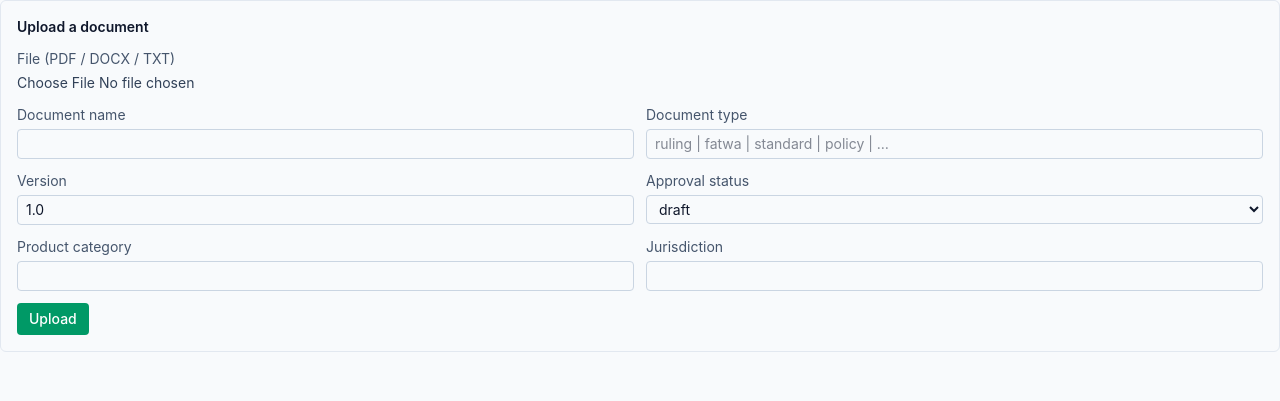
Test case: UploadDocumentForm › blocks submission and shows an error when no file is chosen
Type "Ta’widh Policy" into the field labelled "Document name" at (326, 144), box [17,129,634,159]
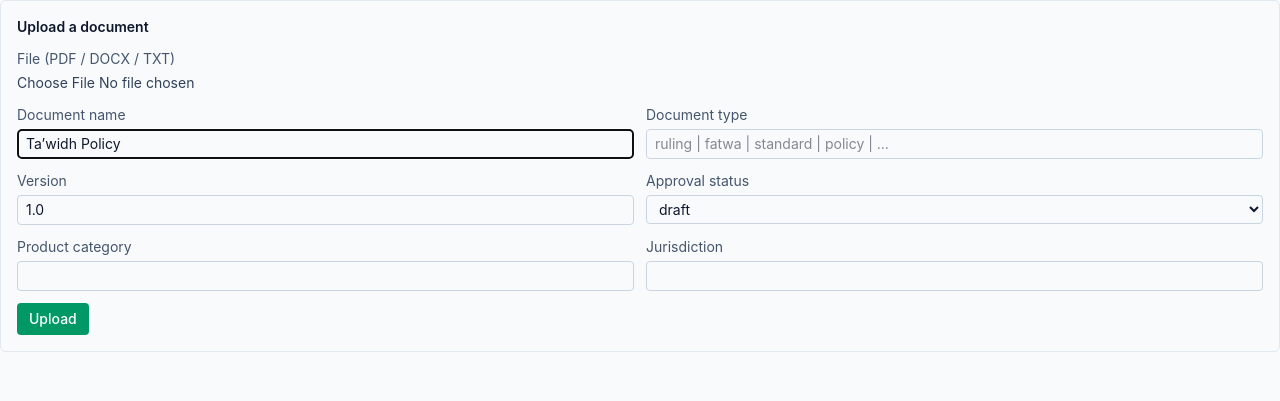
Type "policy" into the field labelled "Document type" at (954, 144), box [646,129,1263,159]
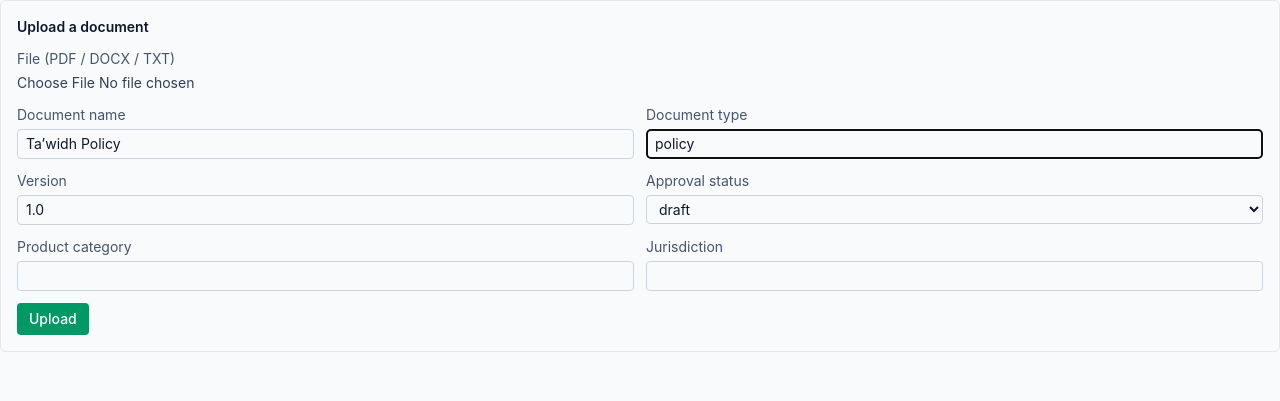
Click the button "Upload" at (53, 319), box [17,303,89,335]
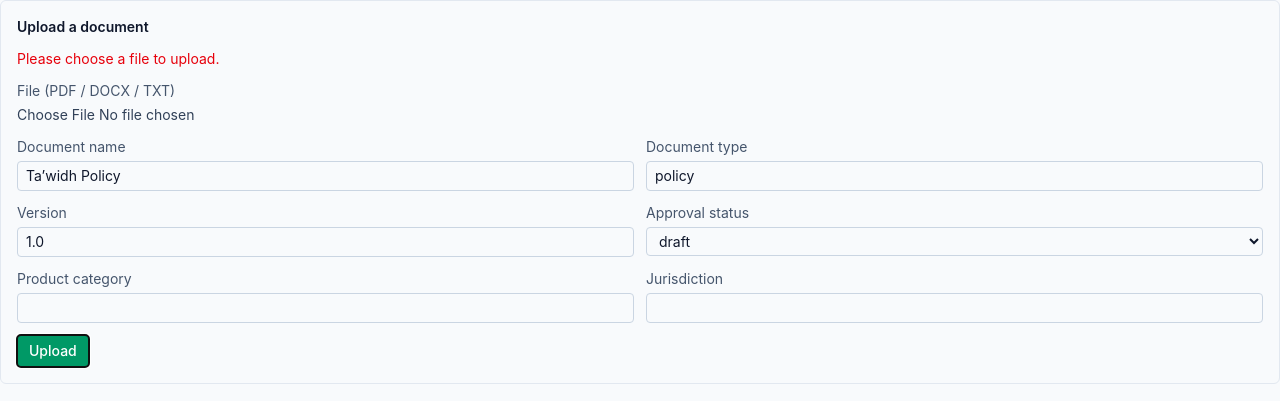
Check: the message shows "choose a file", box [17,50,219,67]
